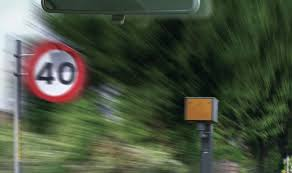Speed_limit_40km: (25, 45, 85, 103)
